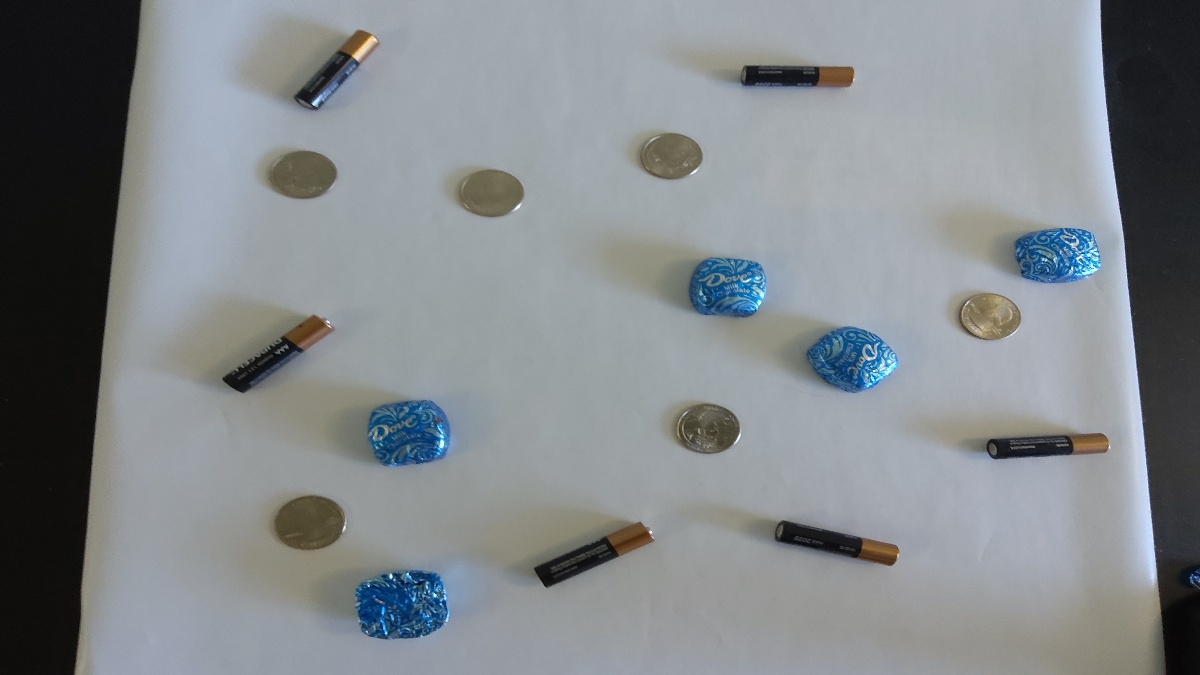battery: (521, 513, 672, 597), (211, 301, 344, 396), (765, 511, 922, 577), (277, 22, 385, 111), (982, 418, 1124, 471), (728, 52, 873, 98)
chocolate_blue: (349, 566, 456, 641), (805, 318, 901, 399), (683, 248, 773, 331), (1005, 221, 1110, 286), (363, 394, 448, 467)
coin_quarter: (949, 280, 1029, 358), (269, 487, 348, 557), (670, 394, 750, 463), (265, 148, 350, 203), (450, 163, 526, 223), (637, 126, 706, 186)
